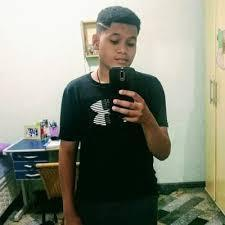Ear-protection: (50, 53, 196, 224)
